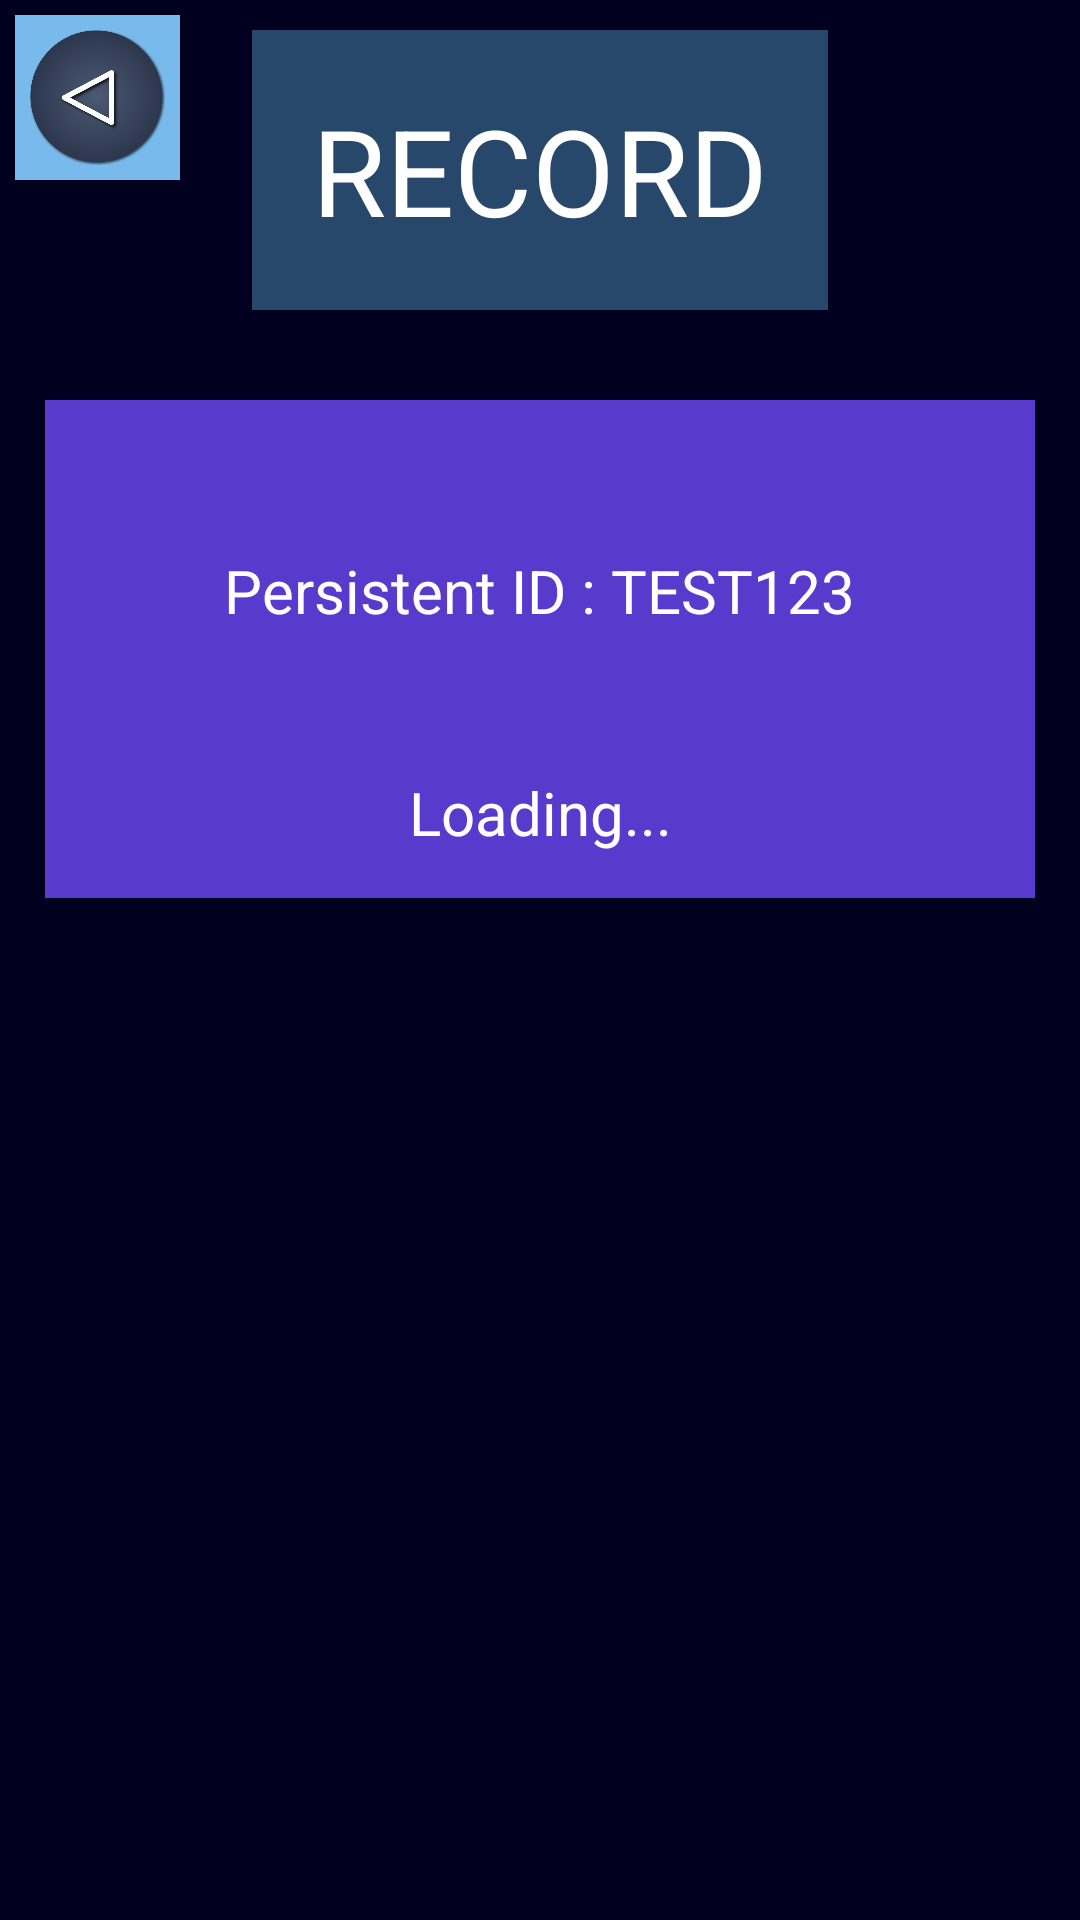

Where icons sit on this 1080px×1920px app screen, as (x1, y1, x2, y2):
backbutton: (15, 15, 180, 180)
